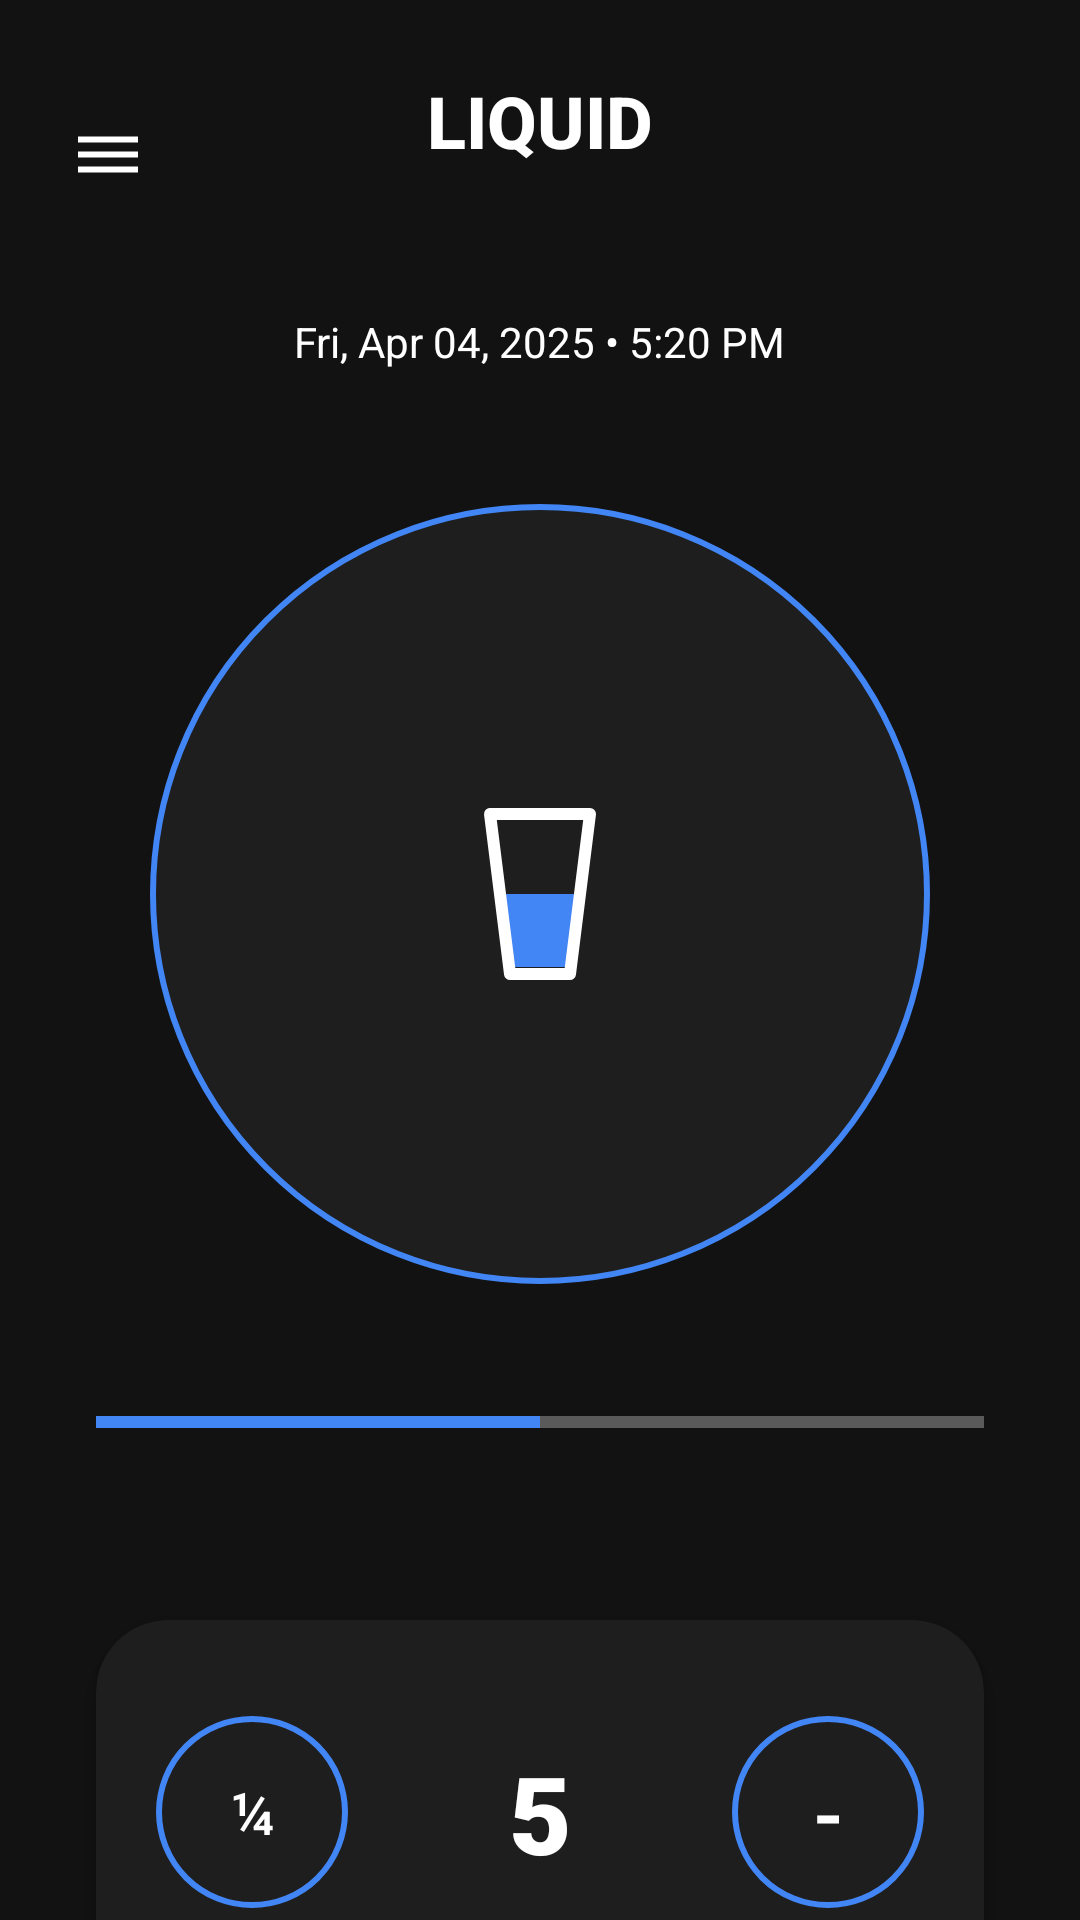

Screen size 1080px×1920px. Icon name, then its center in pixels as (x,y):
Menu: (108,154)
Water glass icon: (540,894)
